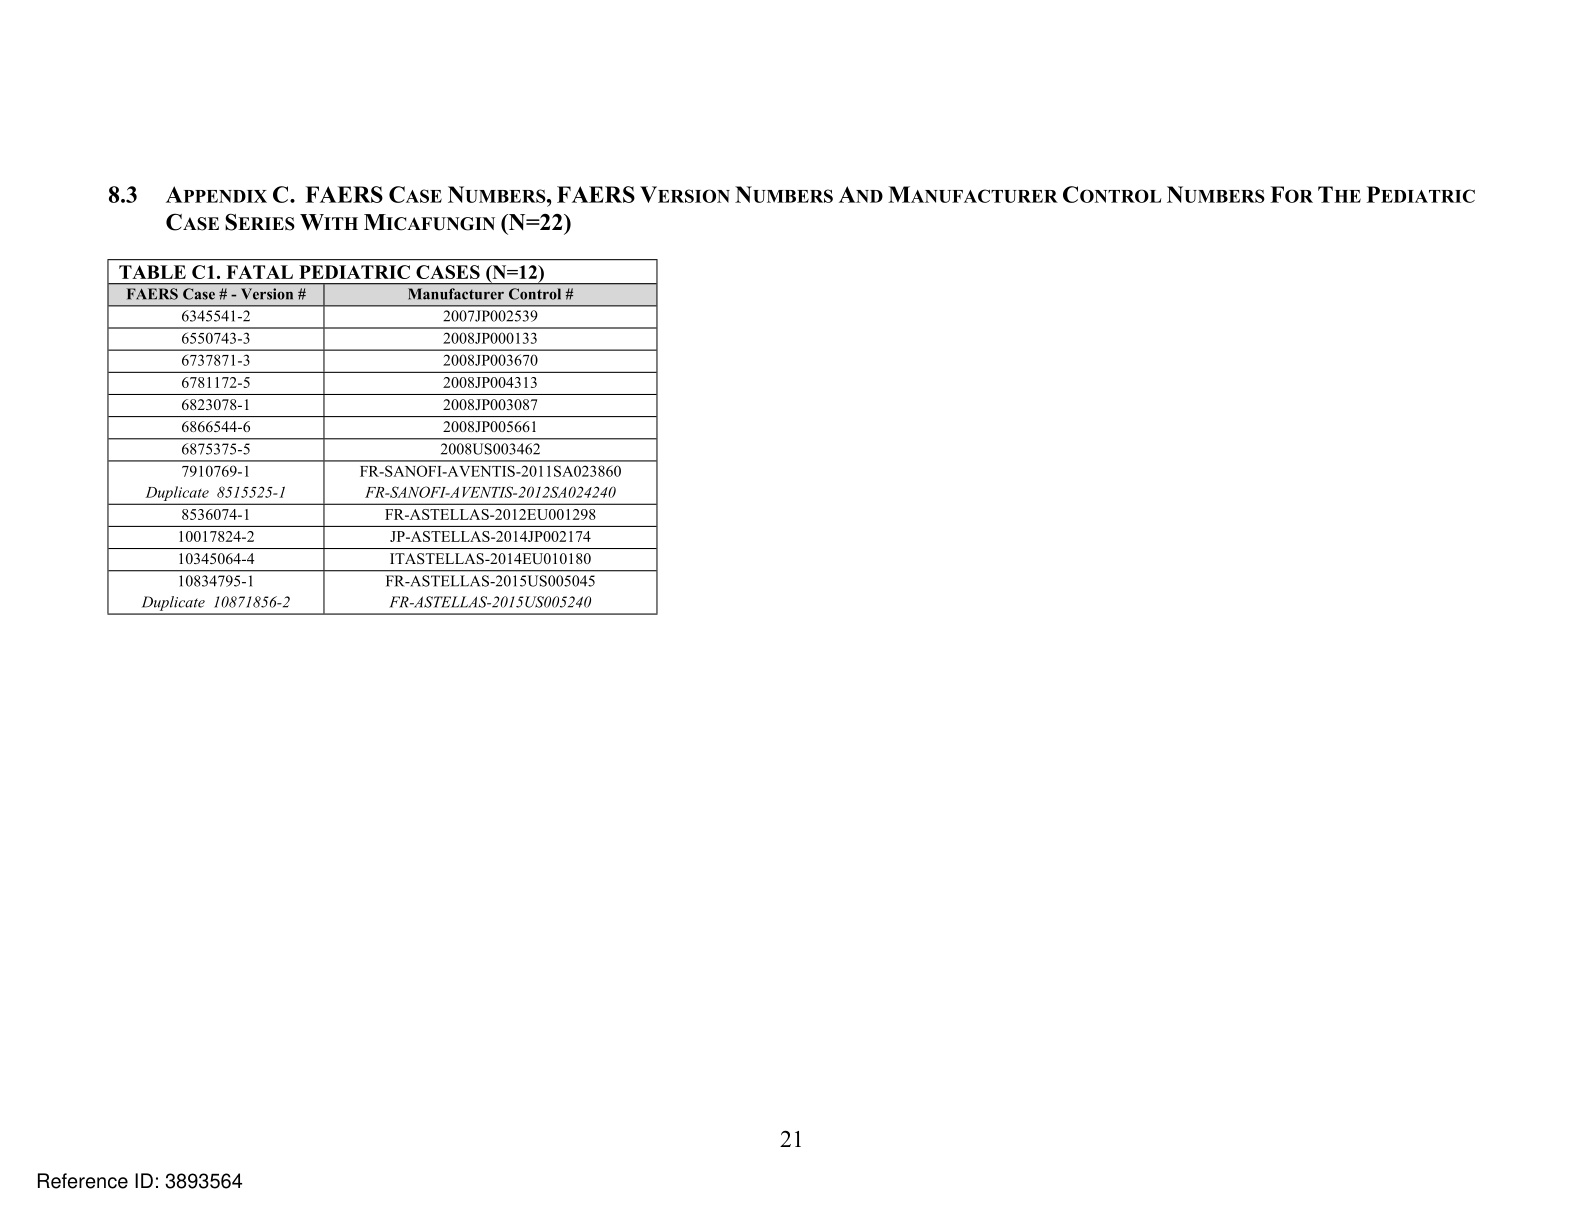merged_cells: (105, 257, 658, 615)
